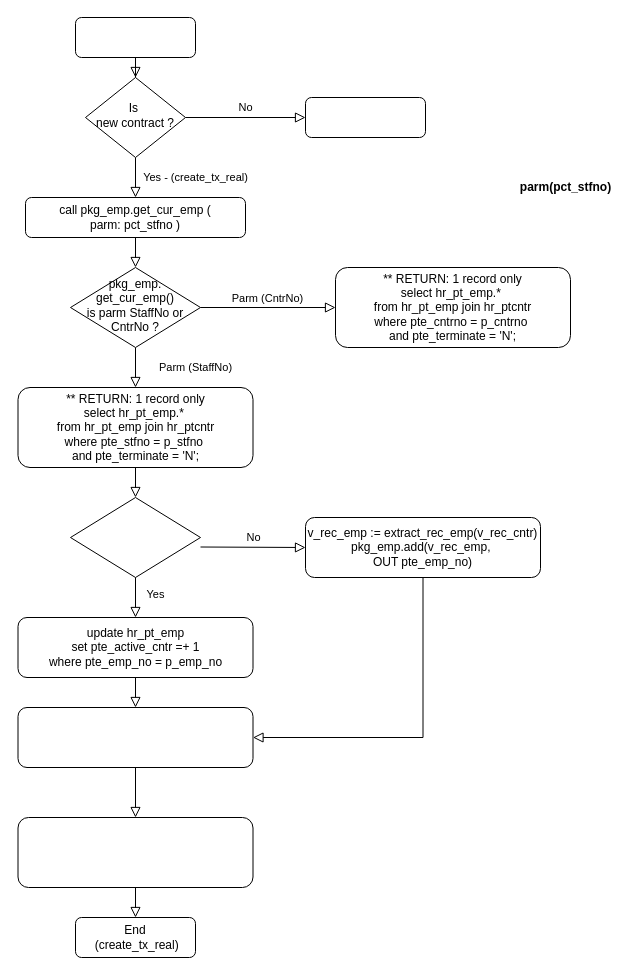
This 642x975 diagram has some shape labels left out. Each missing label, with the centre of its shape:
** Re-generate the employment period pkg_emp.regen_emp_period ( cntrNo ): (135,852)
Contract - Save: (135,37)
insert hr_ptcntr (): (135,737)
Is hr_pt_emp record exist?: (135,537)
